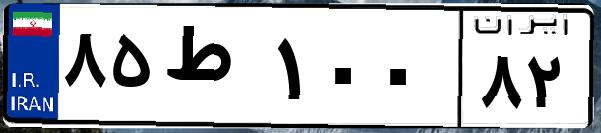0: (385, 28, 445, 110), (330, 28, 385, 110)
1: (270, 28, 330, 110)
2: (525, 38, 570, 115)
5: (110, 28, 158, 98)
8: (57, 26, 110, 100), (475, 38, 525, 113)
ط: (158, 20, 270, 120)
